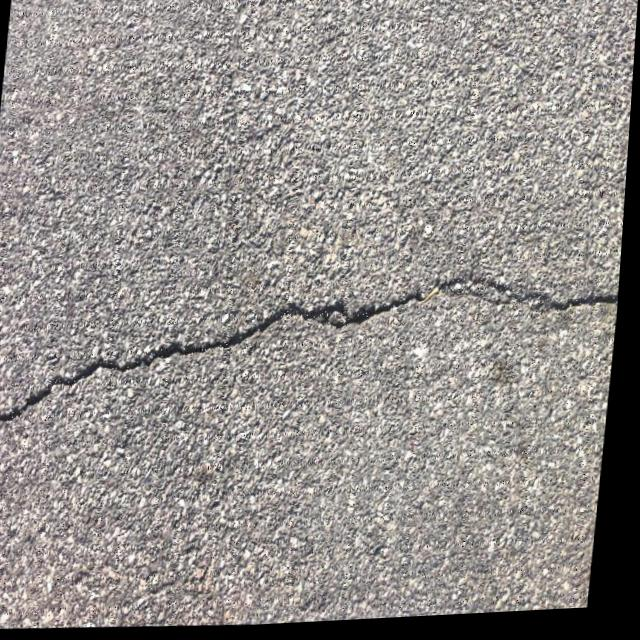Crack: (0, 248, 626, 462)
